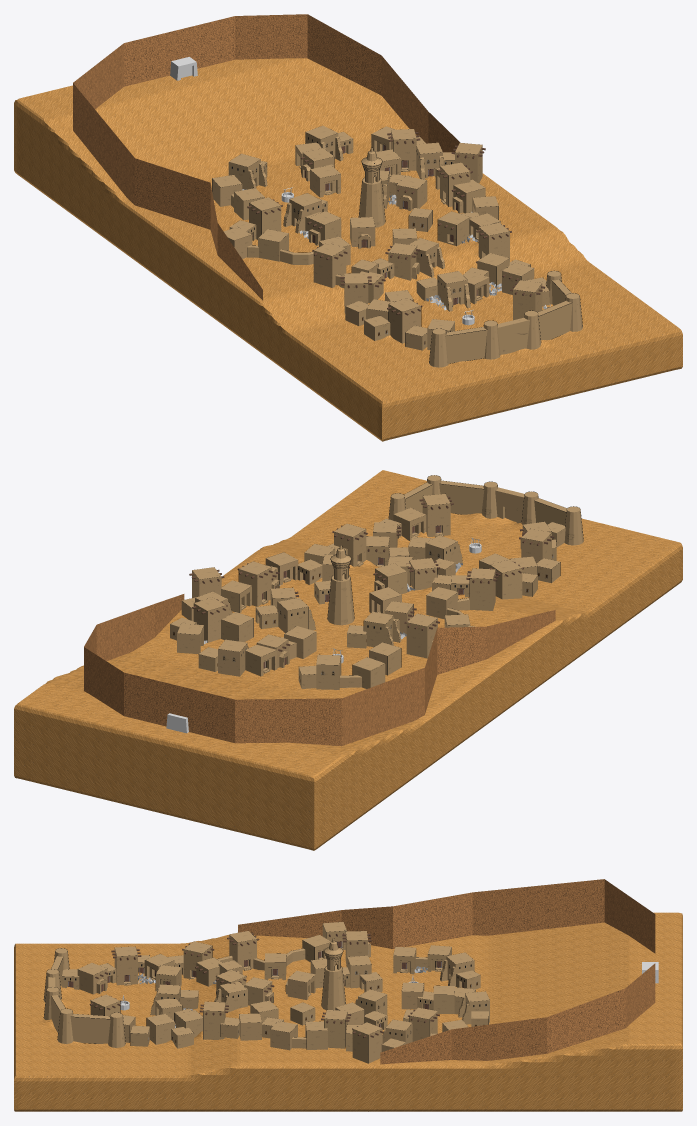
File: Lvl2.fbx
3 views of the same model, one above another, from view 1: azimuth 30°, elevation 25°; view 2: azimuth 150°, elevation 25°; view 3: azimuth 270°, elevation 25° (orthographic). The views are drawn at different scales.
Visible parts, largest first — view 1: Floor_High, Wall, WallGate.001, Tower, House_6.009|Base.006|Dupli|, House_6.002|Base.006|Dupli|, House_6.008|Base.006|Dupli|, House_6|Base.006|Dupli|, WallGate, House_6.001|Base.006|Dupli|, House_7.001|Base.007|Dupli|, House_6.007|Base.006|Dupli| (+17 smaller); view 2: Floor_High, Wall, WallGate.001, Tower, House_6.008|Base.006|Dupli|, House_6.009|Base.006|Dupli|, House_6.001|Base.006|Dupli|, House_6.007|Base.006|Dupli|, House_6.004|Base.006|Dupli|, House_6.005|Base.006|Dupli|, House_6|Base.006|Dupli|, House_4.006|Base.004|Dupli| (+22 smaller); view 3: Floor_High, Wall, WallGate.001, Tower, House_6.006|Base.006|Dupli|, House_6.009|Base.006|Dupli|, House_6.002|Base.006|Dupli|, House_6|Base.006|Dupli|, House_6.004|Base.006|Dupli|, Sand_Fence, House_6.007|Base.006|Dupli|, House_6.005|Base.006|Dupli| (+38 smaller).
Part boxes in pixels (x1,y1,x2,y2): Floor_High: (14, 58, 682, 441); Wall: (73, 14, 459, 300); WallGate.001: (445, 279, 572, 363); Tower: (358, 147, 385, 227); House_6.009|Base.006|Dupli|: (313, 242, 346, 287); House_6.002|Base.006|Dupli|: (388, 298, 421, 343); House_6.008|Base.006|Dupli|: (249, 197, 281, 239); House_6|Base.006|Dupli|: (478, 222, 509, 261); WallGate: (497, 317, 529, 354); House_6.001|Base.006|Dupli|: (513, 280, 542, 320); House_7.001|Base.007|Dupli|: (437, 211, 470, 246); House_6.007|Base.006|Dupli|: (391, 129, 416, 171); Floor_High: (14, 470, 682, 850); Wall: (84, 594, 555, 746); WallGate.001: (404, 480, 566, 525); Tower: (327, 545, 354, 625); House_6.008|Base.006|Dupli|: (406, 613, 437, 658); House_6.009|Base.006|Dupli|: (469, 568, 495, 610); House_6.001|Base.006|Dupli|: (422, 493, 450, 536); House_6.007|Base.006|Dupli|: (193, 597, 226, 642); House_6.004|Base.006|Dupli|: (238, 561, 271, 606); House_6.005|Base.006|Dupli|: (490, 559, 522, 599); House_6|Base.006|Dupli|: (334, 523, 366, 566); House_4.006|Base.004|Dupli|: (218, 639, 247, 676); Floor_High: (14, 912, 682, 1111); Wall: (238, 879, 655, 1064); WallGate.001: (51, 956, 110, 1043); Tower: (321, 938, 345, 1010); House_6.006|Base.006|Dupli|: (352, 1022, 382, 1063); House_6.009|Base.006|Dupli|: (229, 931, 256, 970); House_6.002|Base.006|Dupli|: (114, 946, 137, 985); House_6|Base.006|Dupli|: (203, 1001, 225, 1039); House_6.004|Base.006|Dupli|: (324, 1009, 347, 1048); Sand_Fence: (217, 948, 427, 1048); House_6.007|Base.006|Dupli|: (409, 1007, 437, 1041); House_6.005|Base.006|Dupli|: (183, 941, 212, 979).
Bounding box in the file's own units: 8938 × 3916 × 18893.
6 materials, 5 textured.
